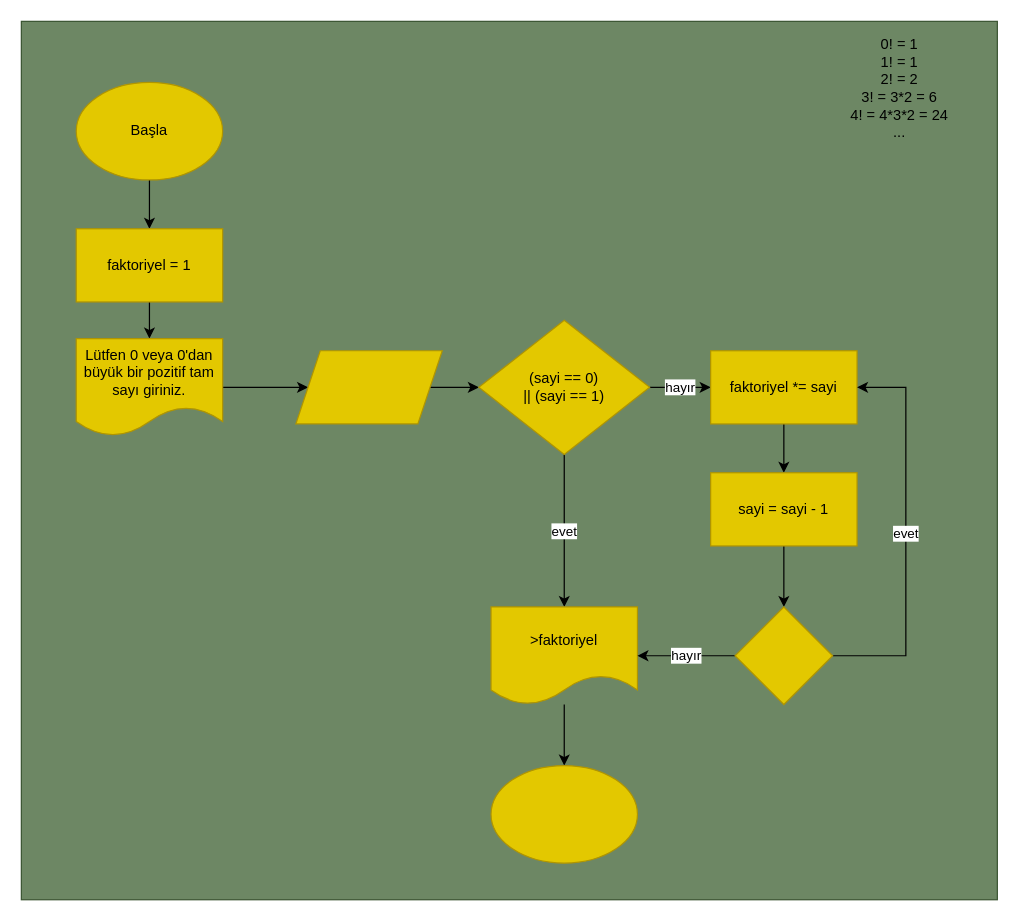
This 1019x921 diagram has some shape labels left out. The shapes that lost their labels are listed below. From the top down, each one's centre as x and y in pixels, then its label:
At (368,387): "sayi".
At (783,655): "sayi > 1".
At (563,813): "Bitir".
